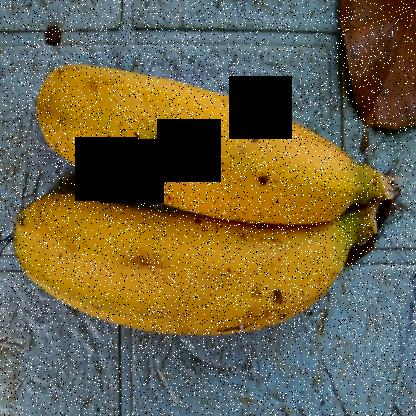freshripe: (10, 205, 348, 343)
ripe: (37, 44, 399, 218)
